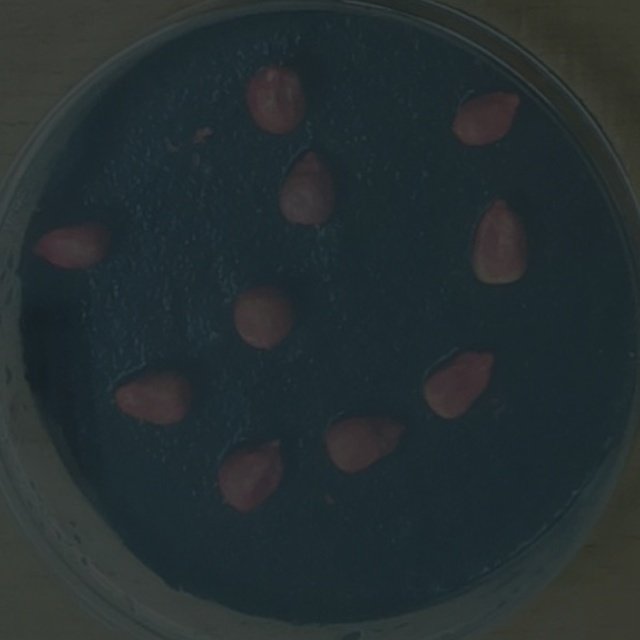Zea mays: (414, 338, 503, 426), (463, 189, 537, 293), (210, 425, 291, 515), (318, 404, 414, 478), (106, 360, 201, 431), (238, 52, 313, 141), (272, 139, 345, 230), (226, 273, 304, 357), (445, 78, 530, 155), (23, 210, 118, 274)
